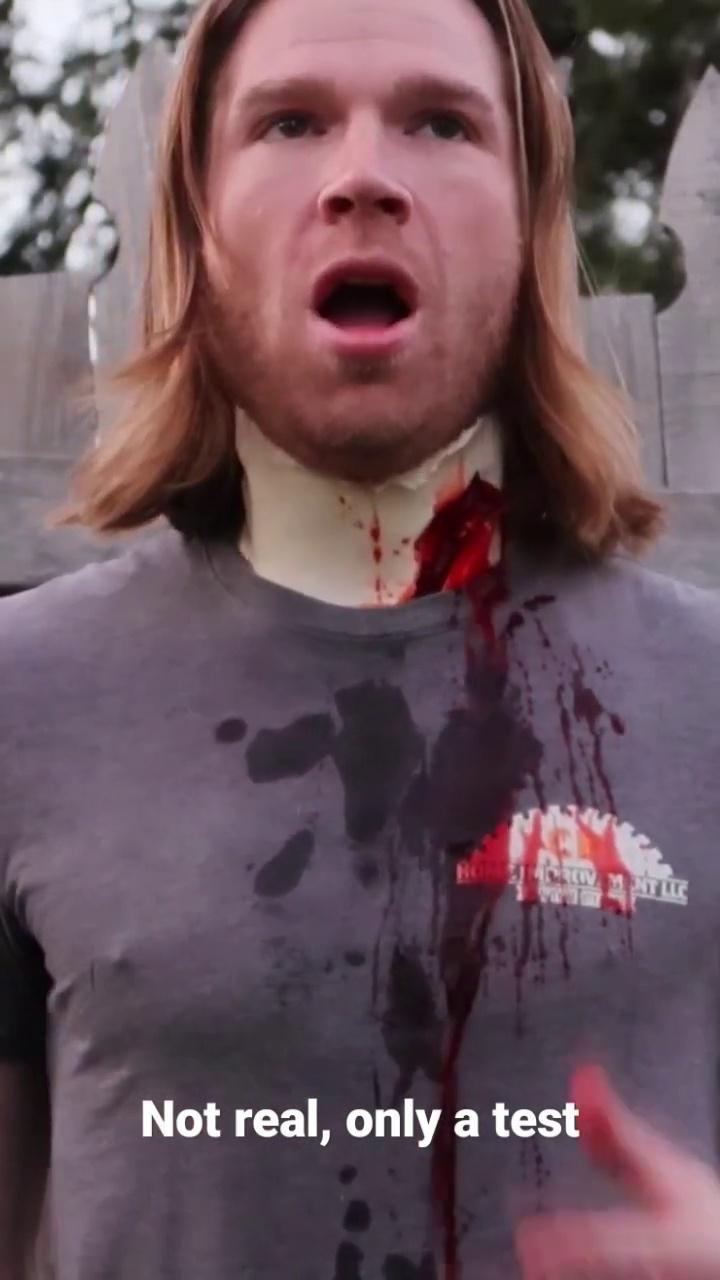Fire: (378, 566, 579, 1112), (511, 807, 635, 918), (413, 475, 503, 596), (553, 645, 614, 812), (419, 1097, 459, 1280), (359, 517, 413, 608), (382, 1257, 431, 1280)
